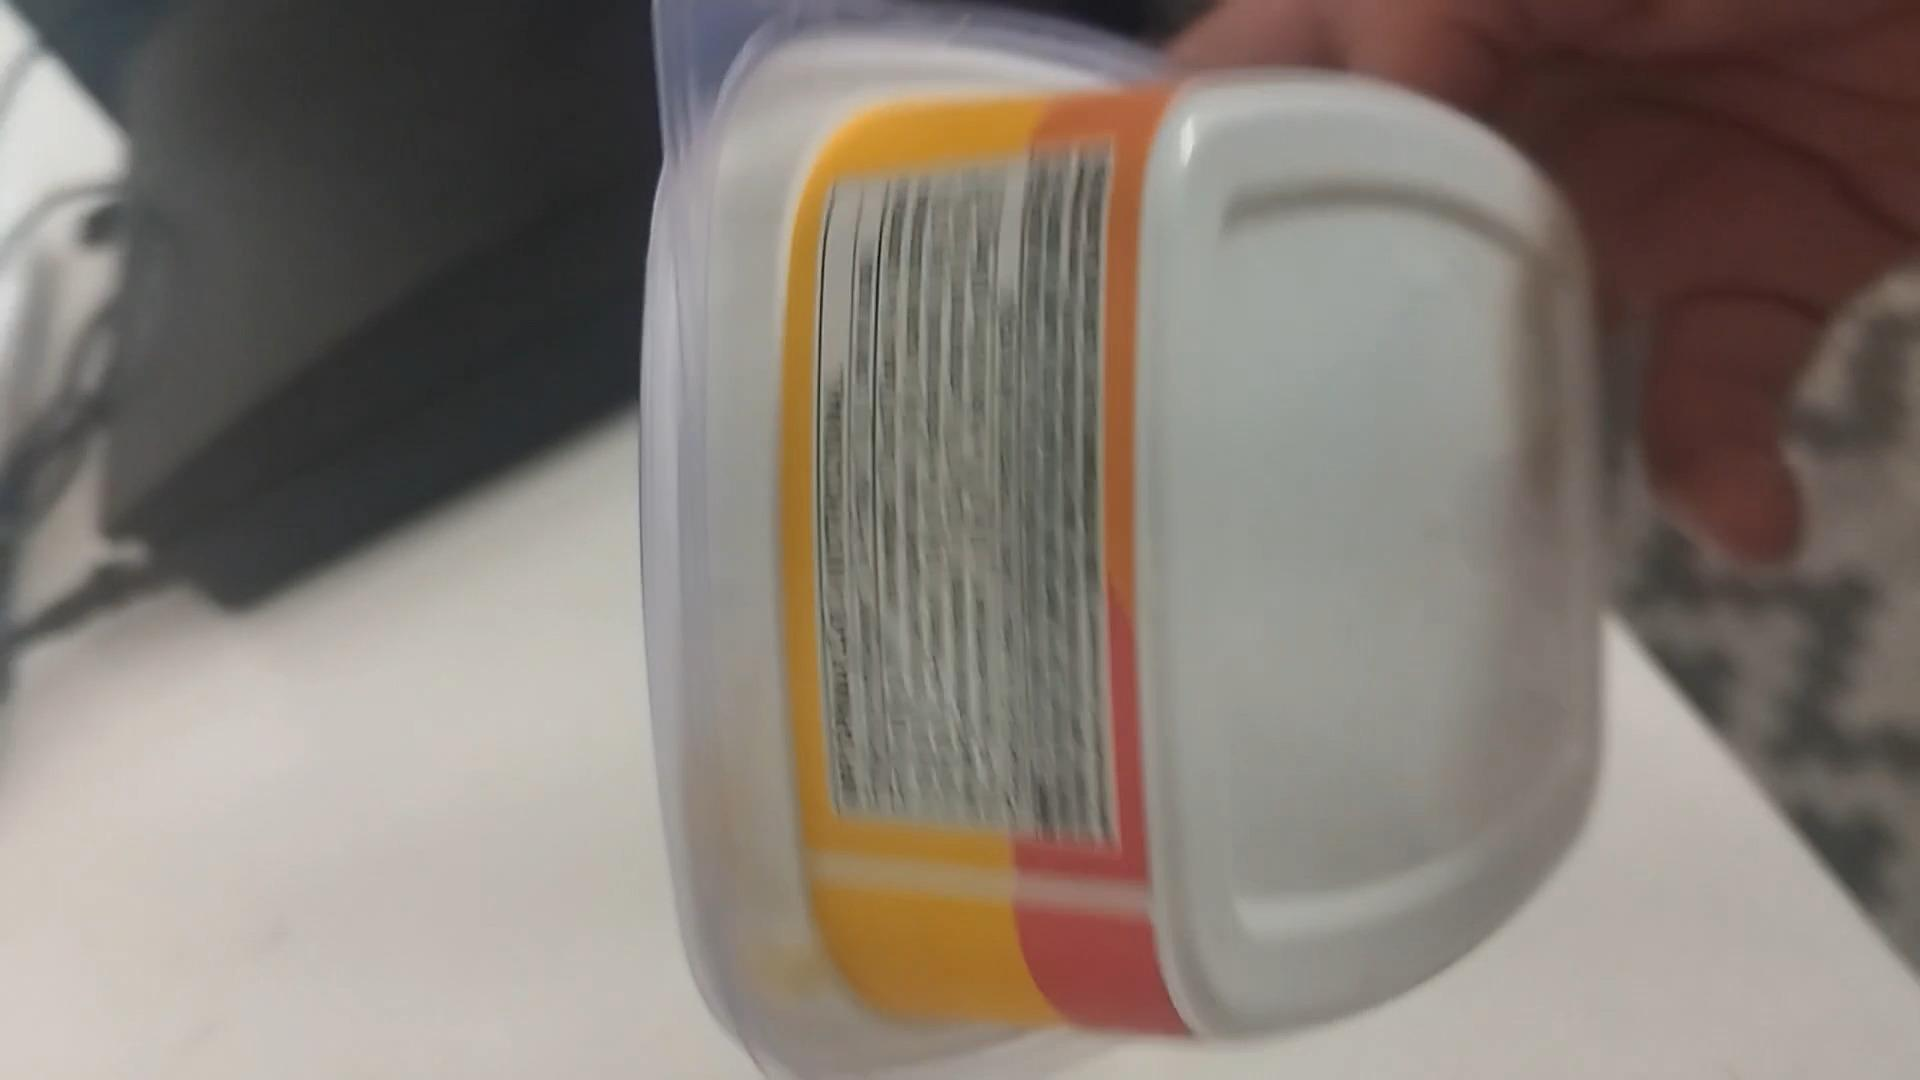butter: (640, 13, 1589, 1065)
